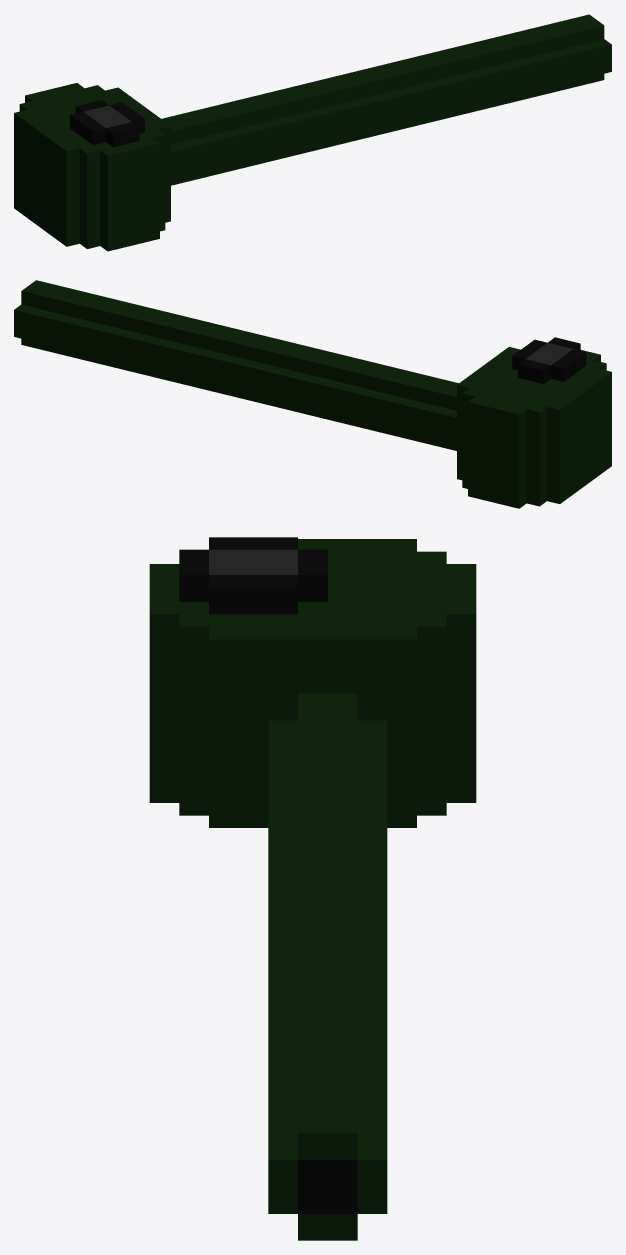
The model's file is TankSniperHead.obj.
The picture shows the model from 3 angles, top to bottom: view 1: azimuth 30°, elevation 25°; view 2: azimuth 150°, elevation 25°; view 3: azimuth 270°, elevation 25°; orthographic projection. The views are drawn at different scales.
Size of the model in its own units: 4.3 by 0.8 by 1.1.
1 material, 1 textured.
